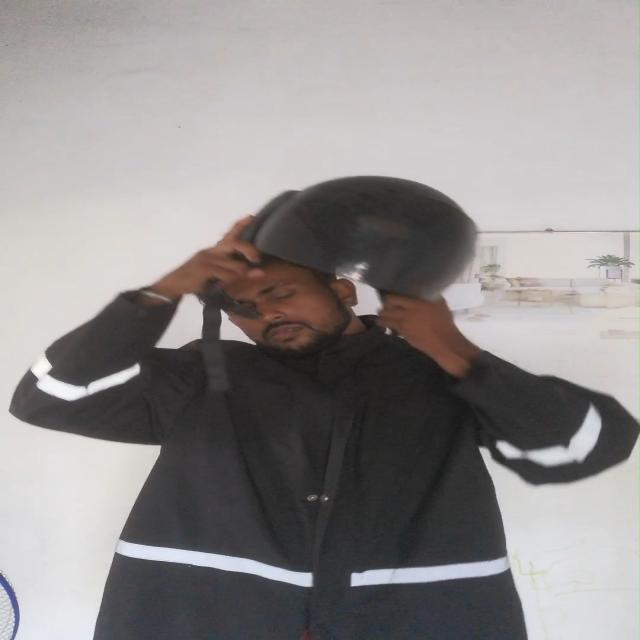Helmet_Wearer: (150, 164, 499, 343)
Jacket_Wearer: (6, 272, 635, 640)
Person: (15, 182, 631, 640)
